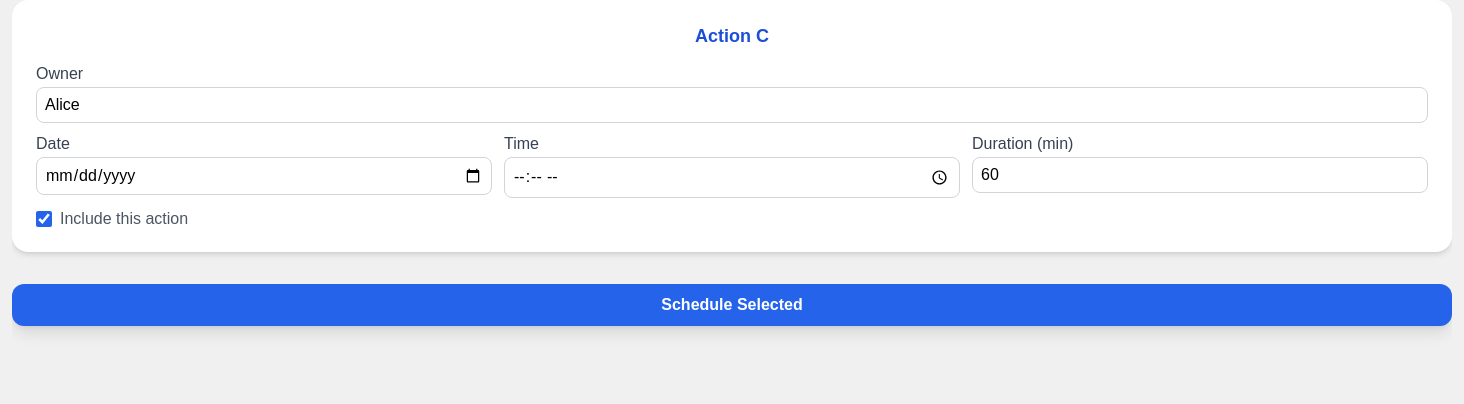
ReviewPanel Component › schedules actions and shows success message
Click the button "Schedule Selected". click: (732, 304)
box: [12,284,1452,326]
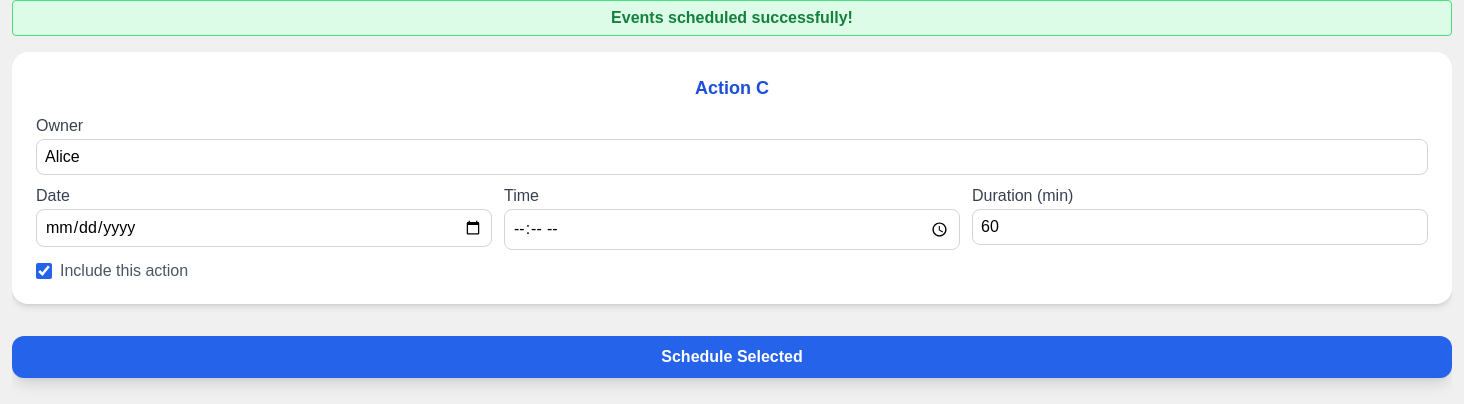
Check: the message shows "Events scheduled successfully", box [611,9,853,26]
